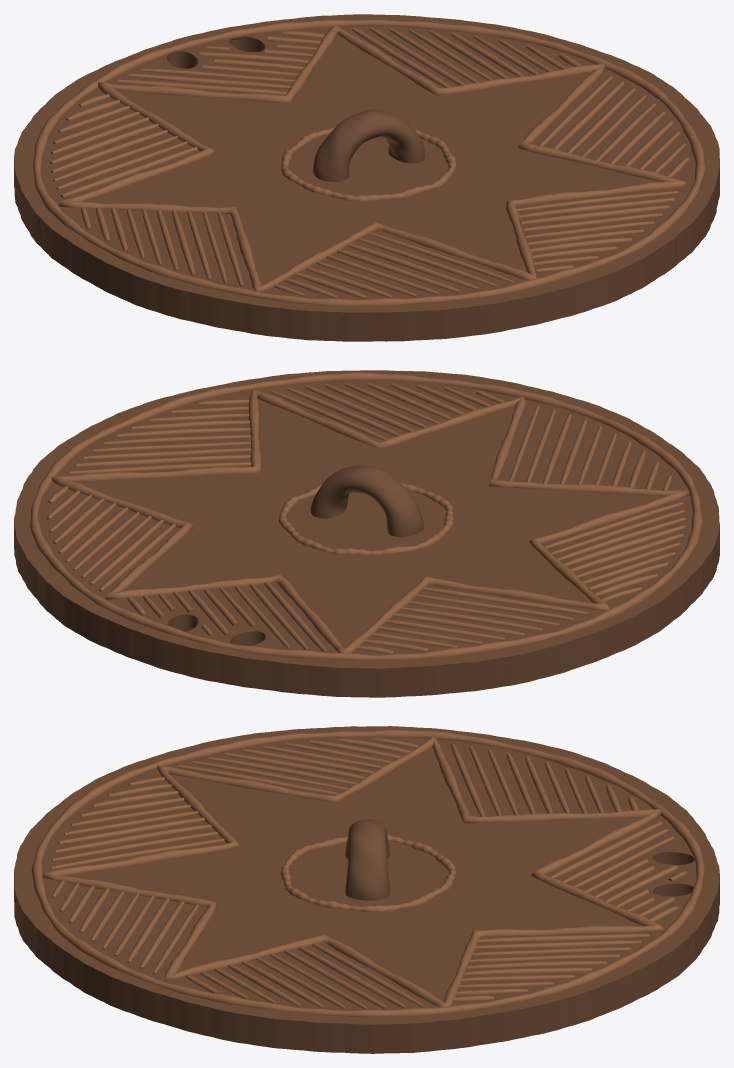
The model's file is qijia-seven-point-mirror.glb.
3 views of the same model, one above another, from view 1: azimuth 30°, elevation 25°; view 2: azimuth 150°, elevation 25°; view 3: azimuth 270°, elevation 25° (orthographic).
Visible parts, largest first — view 1: 镜体 · 素面与双穿孔, 星角间斜线 · 浅浮雕, 七角星 · 阳铸轮廓, 外弦纹, 中央桥形钮, 内弦纹; view 2: 镜体 · 素面与双穿孔, 星角间斜线 · 浅浮雕, 七角星 · 阳铸轮廓, 外弦纹, 中央桥形钮, 内弦纹; view 3: 镜体 · 素面与双穿孔, 星角间斜线 · 浅浮雕, 七角星 · 阳铸轮廓, 外弦纹, 中央桥形钮, 内弦纹.
Boxes of the visible parts, bbox=[...] form: 镜体 · 素面与双穿孔: bbox=[14, 14, 719, 341]; 星角间斜线 · 浅浮雕: bbox=[50, 27, 689, 298]; 七角星 · 阳铸轮廓: bbox=[58, 24, 687, 292]; 外弦纹: bbox=[33, 19, 705, 306]; 中央桥形钮: bbox=[313, 109, 424, 181]; 内弦纹: bbox=[281, 126, 456, 201]; 镜体 · 素面与双穿孔: bbox=[14, 370, 719, 697]; 星角间斜线 · 浅浮雕: bbox=[46, 383, 685, 654]; 七角星 · 阳铸轮廓: bbox=[51, 389, 689, 653]; 外弦纹: bbox=[30, 372, 702, 660]; 中央桥形钮: bbox=[310, 465, 424, 537]; 内弦纹: bbox=[278, 482, 453, 555]; 镜体 · 素面与双穿孔: bbox=[14, 726, 719, 1053]; 星角间斜线 · 浅浮雕: bbox=[50, 738, 687, 1009]; 七角星 · 阳铸轮廓: bbox=[42, 736, 663, 1007]; 外弦纹: bbox=[31, 729, 704, 1017]; 中央桥形钮: bbox=[345, 819, 389, 900]; 内弦纹: bbox=[280, 834, 456, 912].
Bounding box in the file's own units: 87.71 × 10.99 × 87.65.
